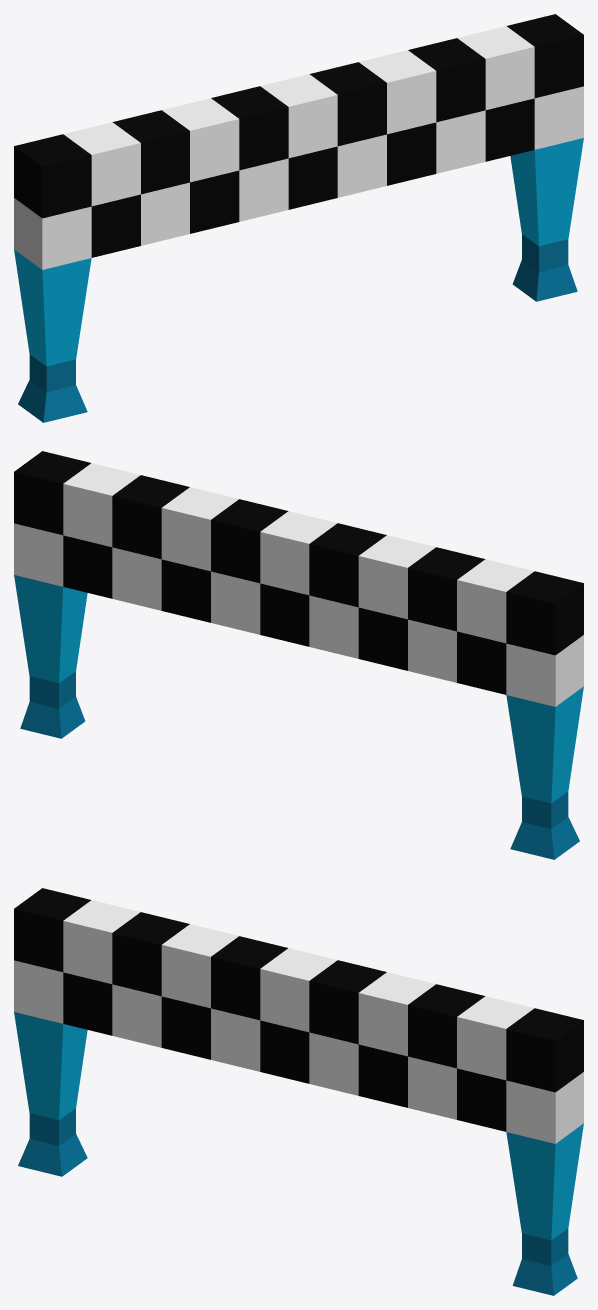
File: FinishBoard.fbx
3 views of the same model, one above another, from view 1: azimuth 30°, elevation 25°; view 2: azimuth 150°, elevation 25°; view 3: azimuth 330°, elevation 25° (orthographic).
Visible parts, largest first — view 1: Cube; view 2: Cube; view 3: Cube.
Boxes of the visible parts, x1=… form: Cube: x1=14, y1=14, x2=583, y2=422; Cube: x1=14, y1=451, x2=583, y2=859; Cube: x1=14, y1=888, x2=583, y2=1295.
Bounding box in the file's own units: 2200 × 1000 × 200.
1 material, 1 textured.
